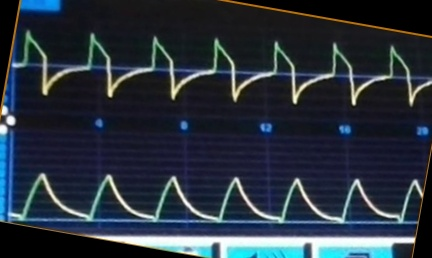Normal Flow: (15, 28, 432, 108)
Normal Volume: (14, 162, 422, 224)
